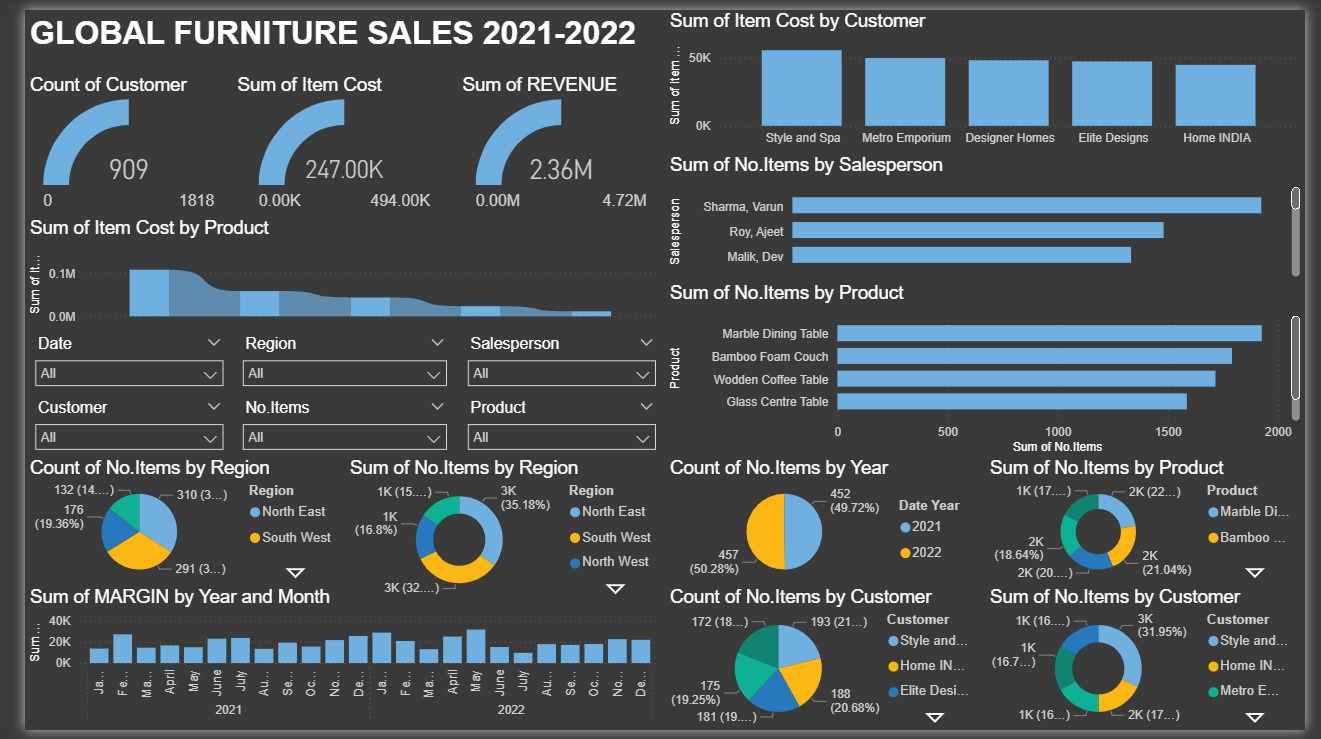

The page's visual inventory and layout, read from the dashboard file:
{"tool":"powerbi","page":{"name":"Page 1","canvas":[1280,720],"ordinal":0},"visuals":[{"type":"textbox","box":[0,0,640,64],"z":0},{"type":"clusteredColumnChart","fields":{"Y":["Raw_Data.MARGIN"],"Category":["Raw_Data.Date.Variation.Date Hierarchy.Year","Raw_Data.Date.Variation.Date Hierarchy.Month"]},"box":[0,576,640,144],"z":1000},{"type":"pieChart","fields":{"Category":["Raw_Data.Customer"],"Y":["Raw_Data.No.Items"]},"box":[640,576,320,144],"z":2000},{"type":"donutChart","fields":{"Category":["Raw_Data.Region"],"Y":["Raw_Data.No.Items"]},"box":[320,448,320,144],"z":3000},{"type":"pieChart","fields":{"Category":["Raw_Data.Region"],"Y":["Raw_Data.No.Items"]},"box":[0,448,320,128],"z":4000},{"type":"donutChart","fields":{"Y":["Raw_Data.No.Items"],"Category":["Raw_Data.Customer"]},"box":[960,576,320,144],"z":5000},{"type":"slicer","fields":{"Values":["Raw_Data.Customer"]},"box":[0,384,208,64],"z":6000},{"type":"donutChart","fields":{"Y":["Raw_Data.No.Items"],"Category":["Raw_Data.Product"]},"box":[960,448,320,128],"z":7000},{"type":"pieChart","fields":{"Category":["Raw_Data.Date.Variation.Date Hierarchy.Year","Raw_Data.Date.Variation.Date Hierarchy.Month","Raw_Data.Date.Variation.Date Hierarchy.Day"],"Y":["Raw_Data.No.Items"]},"box":[640,448,320,128],"z":8000},{"type":"clusteredBarChart","fields":{"Y":["Raw_Data.No.Items"],"Category":["Raw_Data.Product"]},"box":[640,272,640,176],"z":9000},{"type":"clusteredColumnChart","fields":{"Category":["Raw_Data.Customer"],"Y":["Raw_Data.Item Cost"]},"box":[640,0,640,144],"z":10000},{"type":"barChart","fields":{"Category":["Raw_Data.Salesperson"],"Y":["Raw_Data.No.Items"]},"box":[640,144,640,128],"z":11000},{"type":"slicer","fields":{"Values":["Raw_Data.Product"]},"box":[432,384,208,64],"z":12000},{"type":"slicer","fields":{"Values":["Raw_Data.No.Items"]},"box":[208,384,224,64],"z":13000},{"type":"slicer","fields":{"Values":["Raw_Data.Date"]},"box":[0,320,208,64],"z":14000},{"type":"slicer","fields":{"Values":["Raw_Data.Region"]},"box":[208,320,224,64],"z":15000},{"type":"slicer","fields":{"Values":["Raw_Data.Salesperson"]},"box":[432,320,208,64],"z":16000},{"type":"gauge","fields":{"Y":["Raw_Data.Customer"]},"box":[0,64,208,144],"z":17000},{"type":"gauge","fields":{"Y":["Raw_Data.Item Cost"]},"box":[208,64,224,144],"z":18000},{"type":"gauge","fields":{"Y":["Raw_Data.REVENUE"]},"box":[432,64,208,144],"z":19000},{"type":"ribbonChart","fields":{"Category":["Raw_Data.Product"],"Y":["Raw_Data.Item Cost"]},"box":[0,208,640,112],"z":20000}]}

Visuals, with their boxes in screenshot pixels (x1, y1, x2, y2), scaled from the page's 1280x720 canvas onto the 1321x739 screenshot:
textbox: <bbox>0, 0, 660, 66</bbox>
clusteredColumnChart - Raw_Data.MARGIN x Raw_Data.Date.Variation.Date Hierarchy.Year: <bbox>0, 591, 660, 738</bbox>
pieChart - Raw_Data.Customer x Raw_Data.No.Items: <bbox>660, 591, 991, 738</bbox>
donutChart - Raw_Data.Region x Raw_Data.No.Items: <bbox>330, 460, 660, 608</bbox>
pieChart - Raw_Data.Region x Raw_Data.No.Items: <bbox>0, 460, 330, 591</bbox>
donutChart - Raw_Data.No.Items x Raw_Data.Customer: <bbox>991, 591, 1320, 738</bbox>
slicer - Raw_Data.Customer: <bbox>0, 394, 215, 460</bbox>
donutChart - Raw_Data.No.Items x Raw_Data.Product: <bbox>991, 460, 1320, 591</bbox>
pieChart - Raw_Data.Date.Variation.Date Hierarchy.Year x Raw_Data.Date.Variation.Date Hierarchy.Month: <bbox>660, 460, 991, 591</bbox>
clusteredBarChart - Raw_Data.No.Items x Raw_Data.Product: <bbox>660, 279, 1320, 460</bbox>
clusteredColumnChart - Raw_Data.Customer x Raw_Data.Item Cost: <bbox>660, 0, 1320, 148</bbox>
barChart - Raw_Data.Salesperson x Raw_Data.No.Items: <bbox>660, 148, 1320, 279</bbox>
slicer - Raw_Data.Product: <bbox>446, 394, 660, 460</bbox>
slicer - Raw_Data.No.Items: <bbox>215, 394, 446, 460</bbox>
slicer - Raw_Data.Date: <bbox>0, 328, 215, 394</bbox>
slicer - Raw_Data.Region: <bbox>215, 328, 446, 394</bbox>
slicer - Raw_Data.Salesperson: <bbox>446, 328, 660, 394</bbox>
gauge - Raw_Data.Customer: <bbox>0, 66, 215, 213</bbox>
gauge - Raw_Data.Item Cost: <bbox>215, 66, 446, 213</bbox>
gauge - Raw_Data.REVENUE: <bbox>446, 66, 660, 213</bbox>
ribbonChart - Raw_Data.Product x Raw_Data.Item Cost: <bbox>0, 213, 660, 328</bbox>
